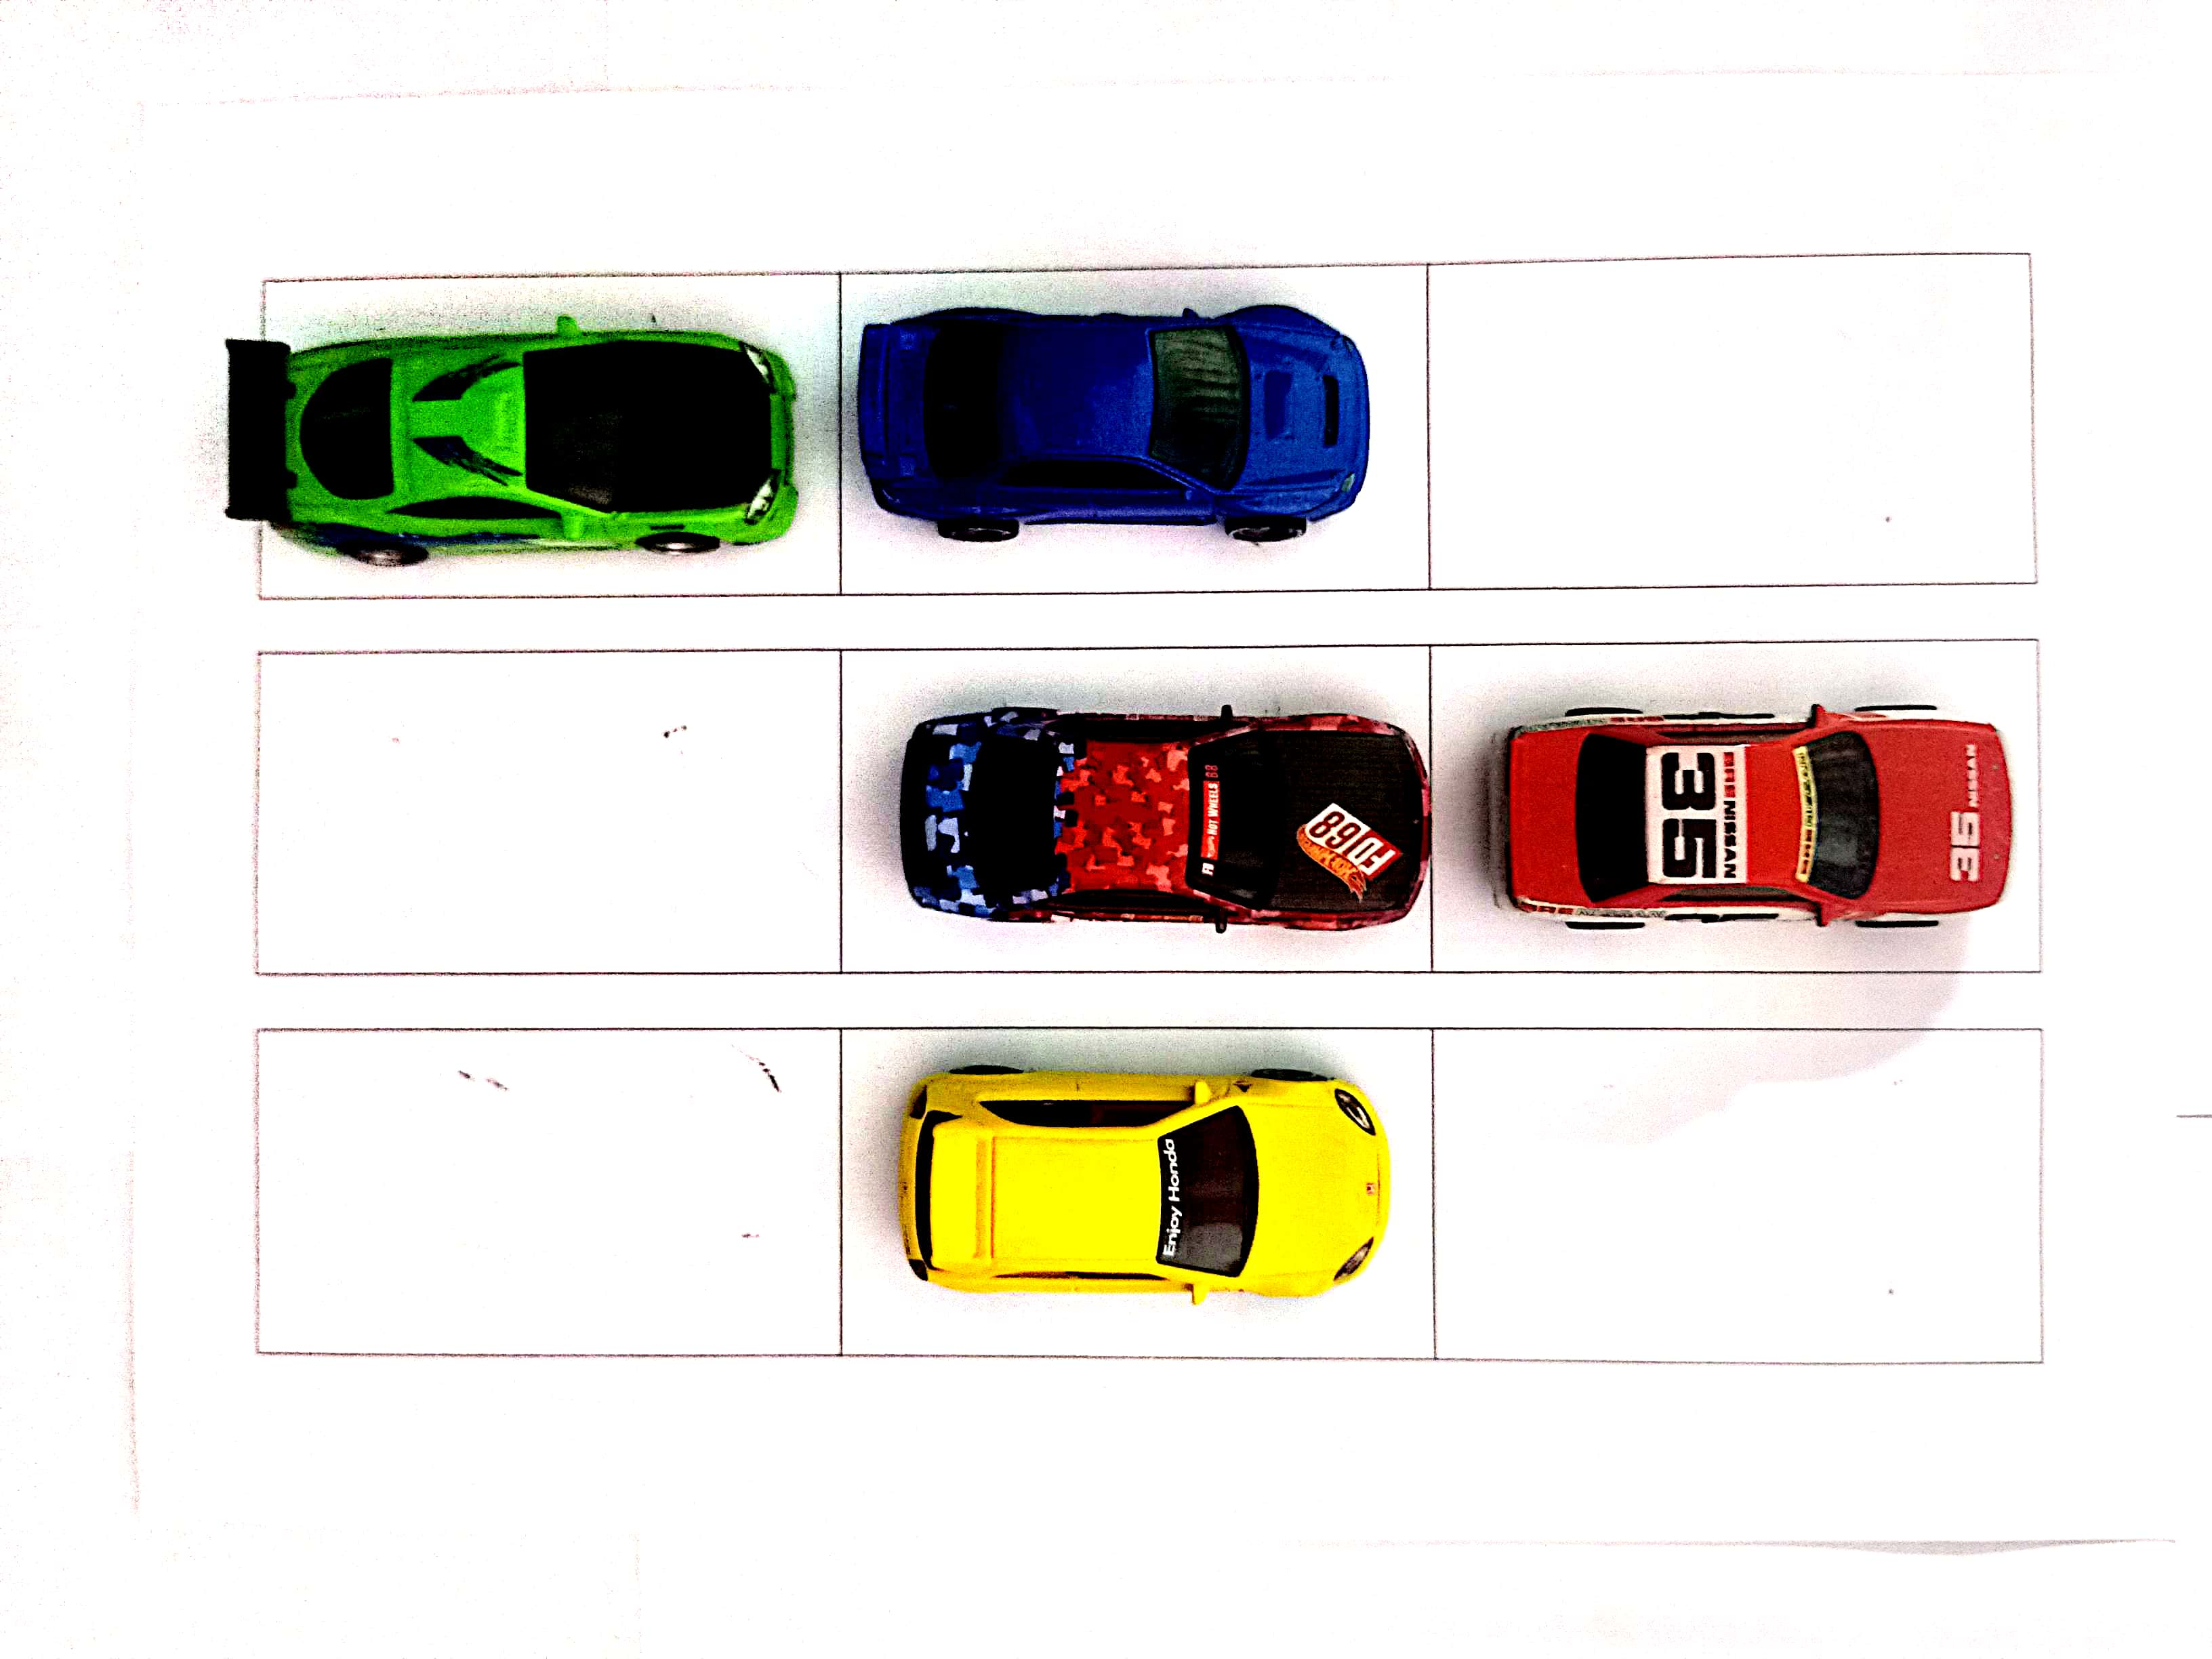Busy: (1428, 650, 2041, 972), (848, 641, 1423, 967), (843, 1032, 1423, 1354), (852, 263, 1423, 589), (261, 279, 845, 593)
Free: (1432, 249, 2033, 584), (1433, 1026, 2033, 1354), (260, 1023, 836, 1358), (256, 657, 840, 976)
